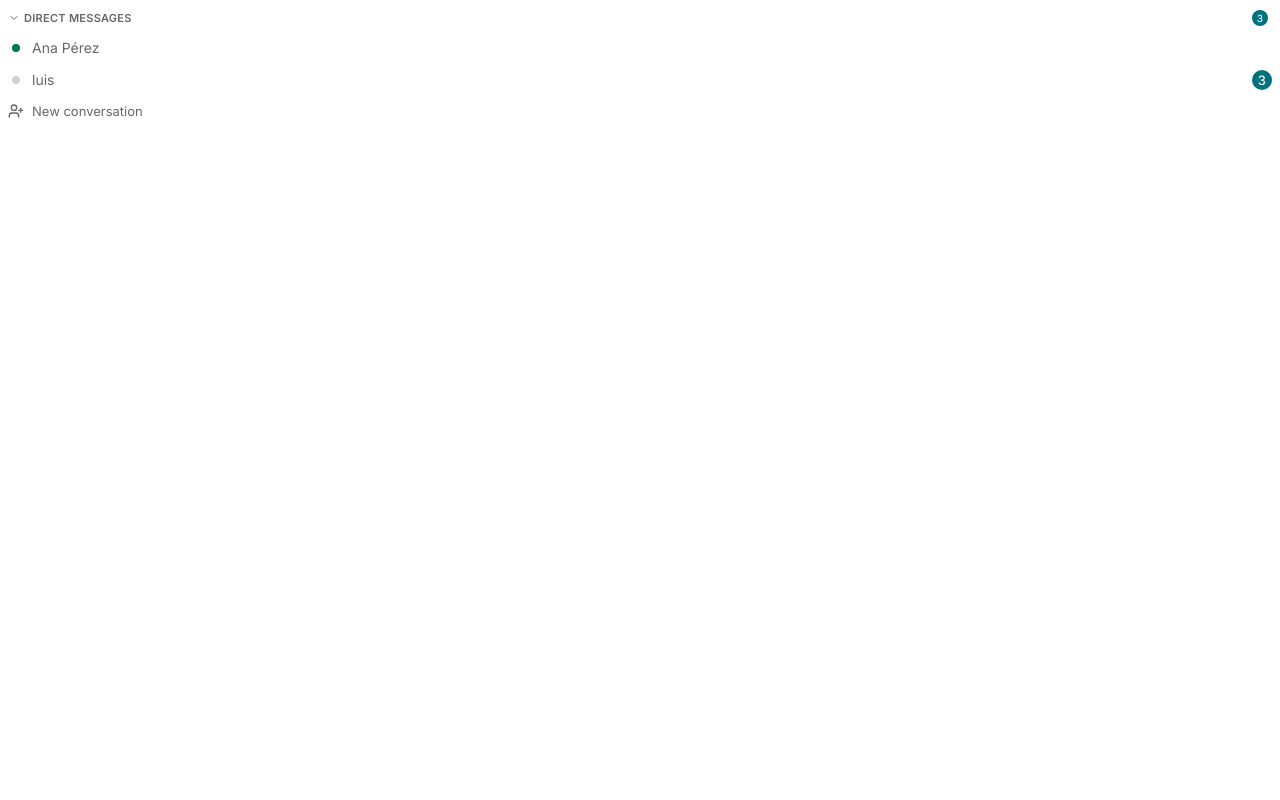
Test: nueva conversación › abre el buscador con la gente de la org
This screenshot has width=1280, height=800.
What coordinates should you click on to do the following:
click the button "New conversation"
I would click on:
 (87, 111)
Its box is [8,96,1272,126].
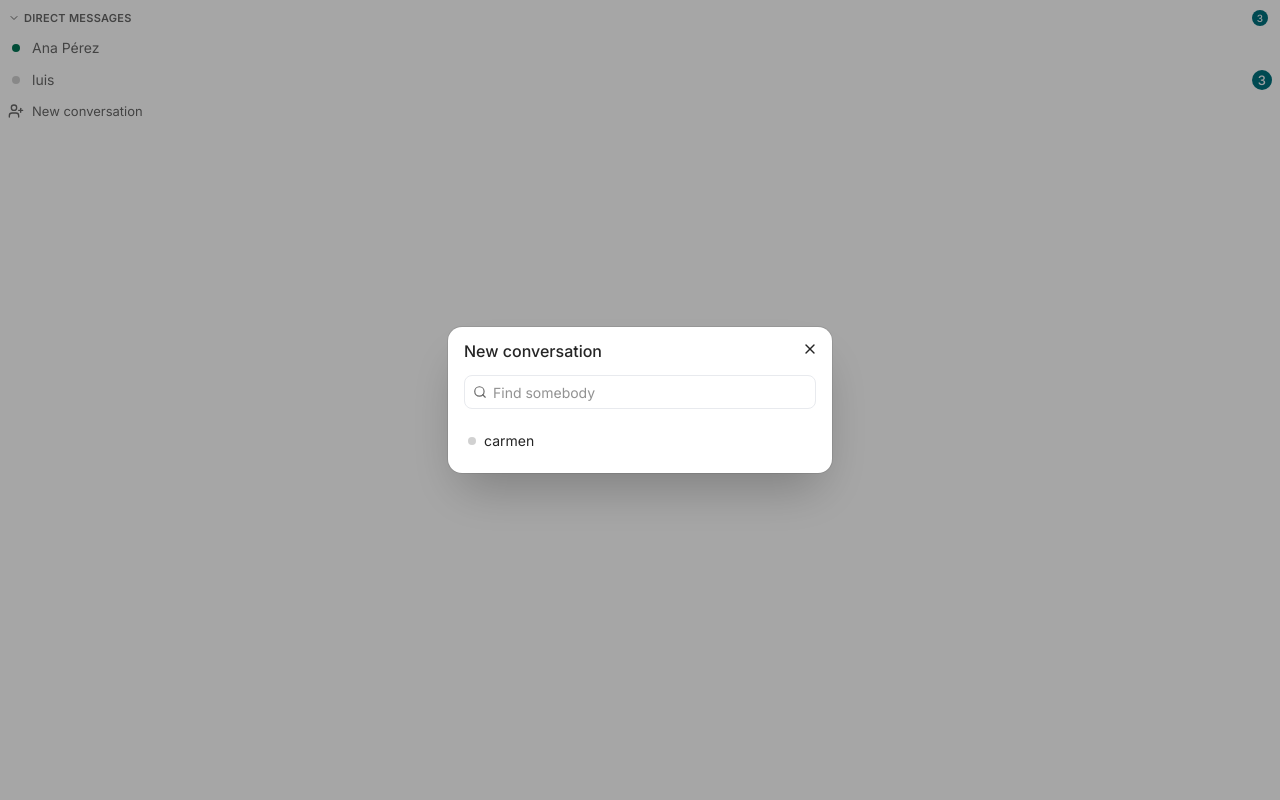
Now the dialog is shown, box [448,327,832,473]
Now the button "carmen" is shown, box [460,425,820,457]
